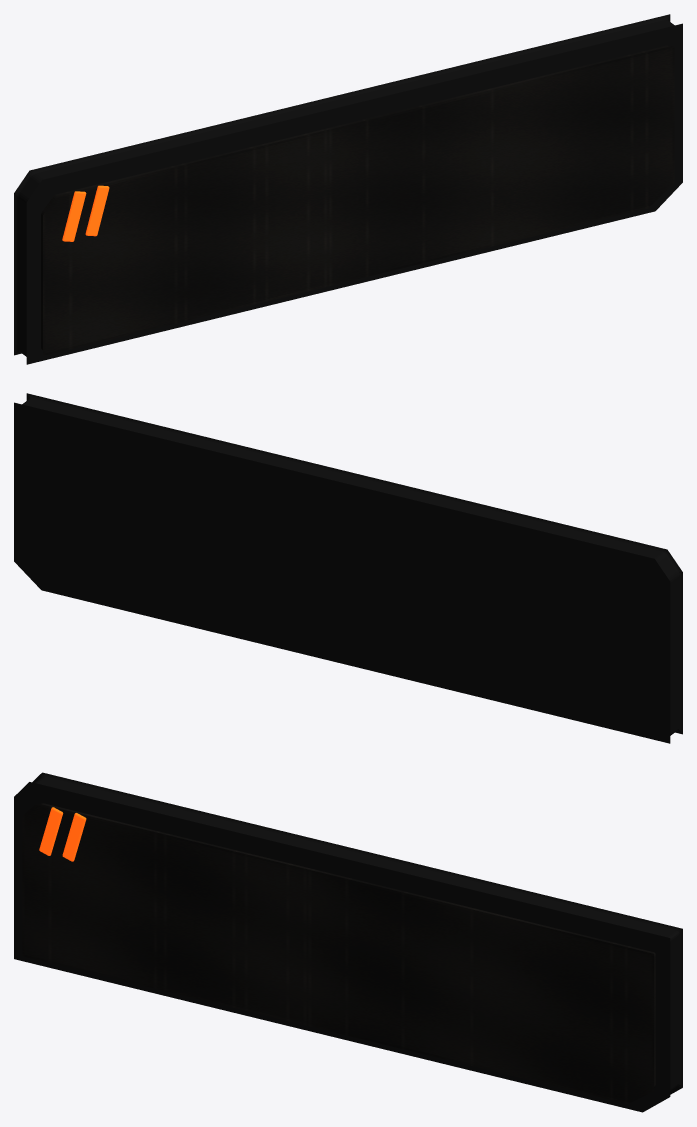
Rendered from chevy-objective.glb.
3 views of the same model, one above another, from view 1: azimuth 30°, elevation 25°; view 2: azimuth 150°, elevation 25°; view 3: azimuth 330°, elevation 25° (orthographic).
Visible parts, largest first — view 1: Objective_Face, Objective_Backplate, Objective_Slash_1, Objective_Slash_2; view 2: Objective_Backplate; view 3: Objective_Face, Objective_Backplate, Objective_Slash_1, Objective_Slash_2.
Part boxes in pixels (x1,y1,x2,y2): Objective_Face: (41,45,674,355); Objective_Backplate: (14,14,682,364); Objective_Slash_1: (62,191,86,241); Objective_Slash_2: (85,185,109,236); Objective_Backplate: (14,393,682,743); Objective_Face: (22,803,655,1103); Objective_Backplate: (14,772,682,1112); Objective_Slash_1: (39,807,63,855); Objective_Slash_2: (62,813,86,861).
Bounding box in the file's own units: 5.65 × 1.49 × 0.281.
4 materials, 1 textured.
